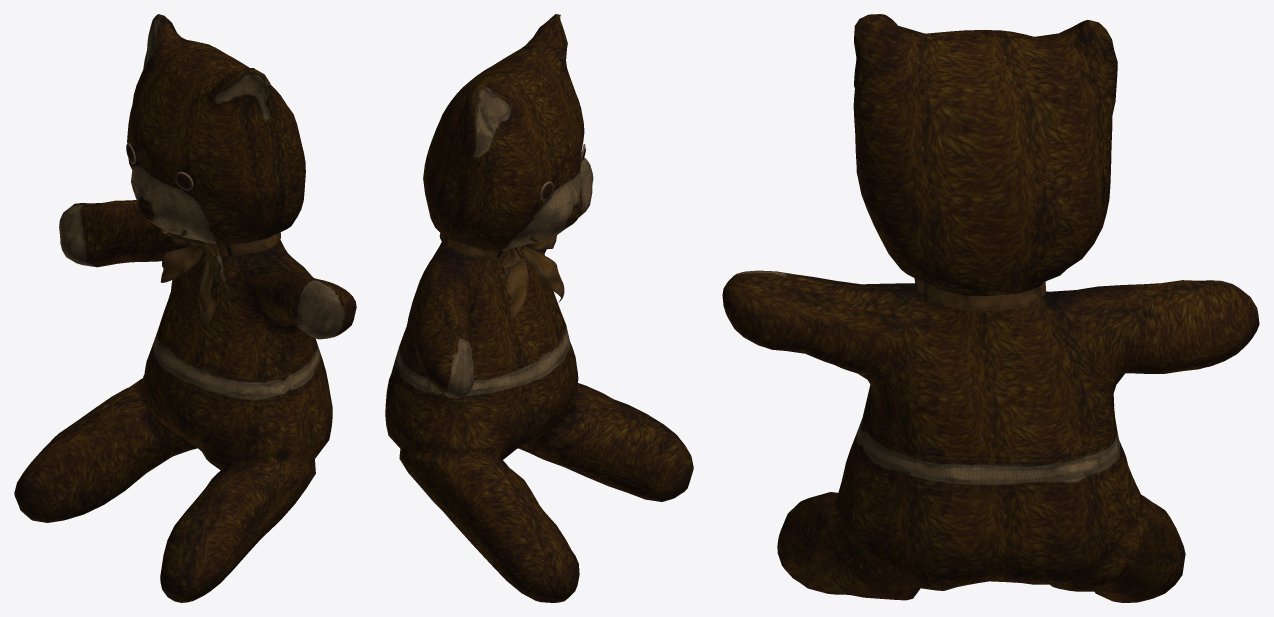
File: SM_Stuffed_Toys_6.fbx
3 renders of one model, left to right at view 1: azimuth 30°, elevation 25°; view 2: azimuth 150°, elevation 25°; view 3: azimuth 270°, elevation 25°, orthographic. The views are drawn at different scales.
Parts seen in each view (by area): view 1: SM_Stuffed_Toys_6; view 2: SM_Stuffed_Toys_6; view 3: SM_Stuffed_Toys_6.
Boxes of the visible parts, x1,y1,x2,y2 form: SM_Stuffed_Toys_6: [14, 14, 356, 602]; SM_Stuffed_Toys_6: [385, 14, 693, 602]; SM_Stuffed_Toys_6: [722, 14, 1259, 602].
Bounding box in the file's own units: 18.64 × 29.78 × 39.08.
Materials: 1 (1 with a texture image).
